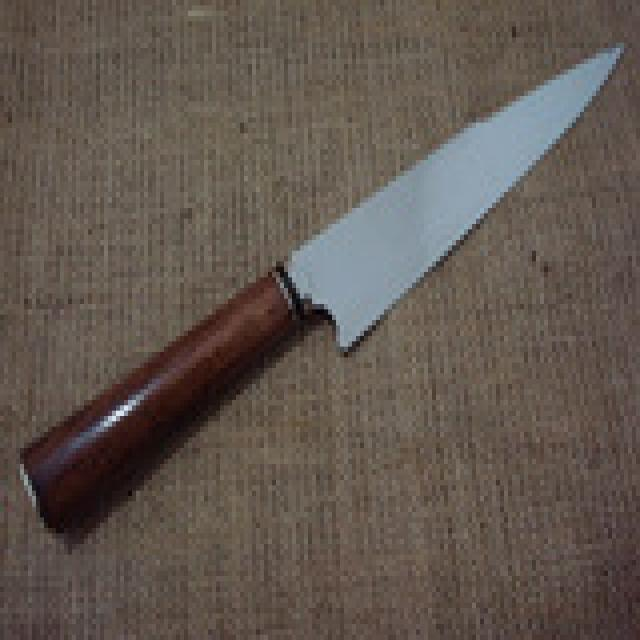Knife: (15, 45, 625, 549)
